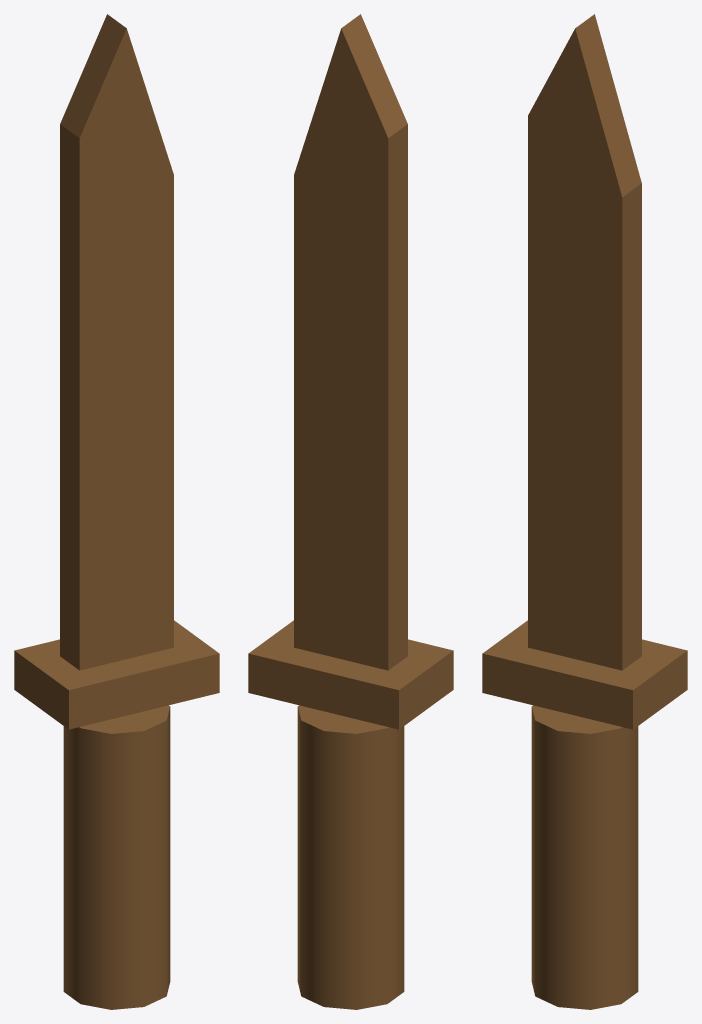
The model's file is iceman-flint.glb.
3 renders of one model, left to right at view 1: azimuth 30°, elevation 25°; view 2: azimuth 150°, elevation 25°; view 3: azimuth 330°, elevation 25°, orthographic.
Visible parts, largest first — view 1: Blade, Grip, Guard; view 2: Blade, Grip, Guard; view 3: Blade, Grip, Guard.
Part boxes in pixels (<box>): Blade: <box>60,14,173,670</box>; Grip: <box>63,705,170,1009</box>; Guard: <box>14,620,219,729</box>; Blade: <box>294,14,407,670</box>; Grip: <box>297,705,404,1009</box>; Guard: <box>248,620,453,729</box>; Blade: <box>528,14,641,670</box>; Grip: <box>531,705,638,1009</box>; Guard: <box>482,620,687,729</box>.
Bounding box in the file's own units: 0.08 × 0.49 × 0.05.
